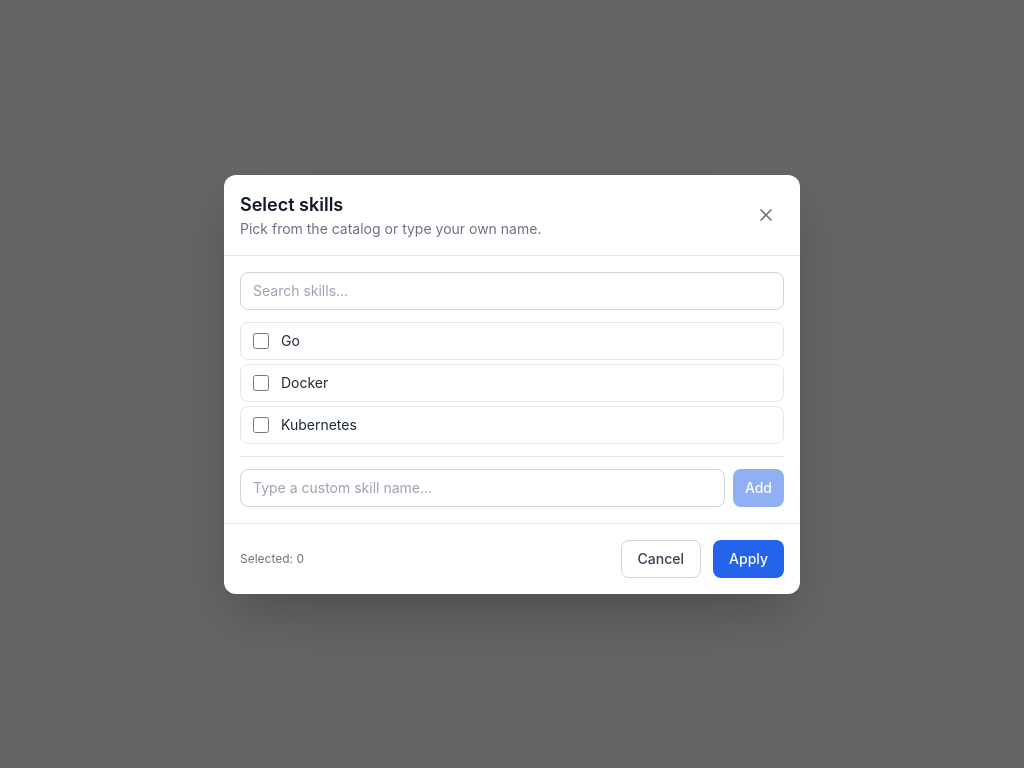
Test: SkillPickerModal (issue #577) › filters the catalog with the search input
The image size is (1024, 768).
Type "dock" into the field with placeholder "Search skills...".
click(512, 290); type("dock")  # box [240,272,784,310]
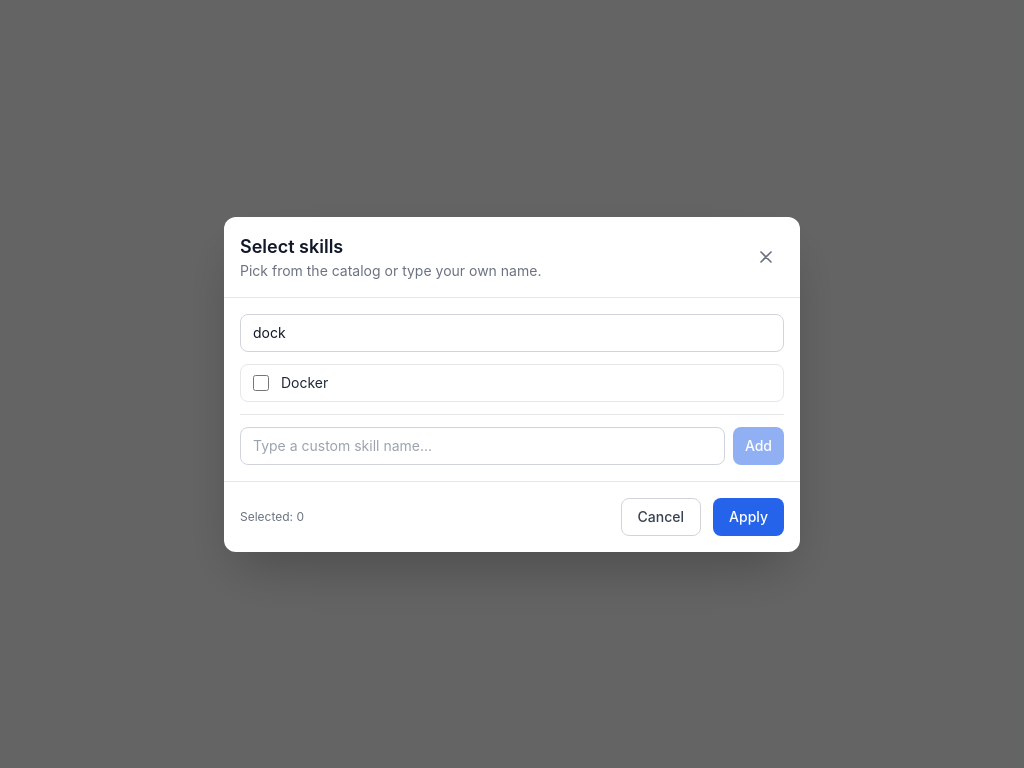
Expected: the text "Docker" is shown, [281,374,328,390]
Now the text "Kubernetes" is gone
Now the text "Go" is gone
